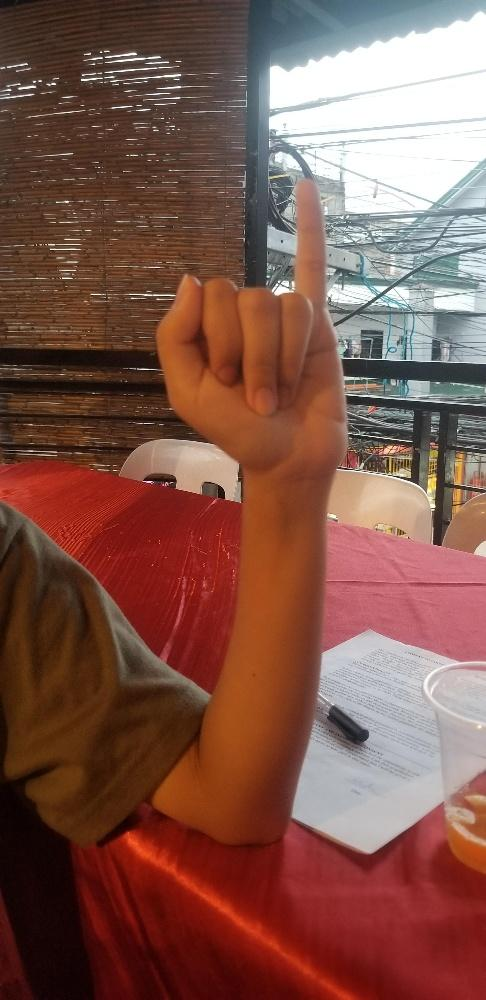i: (152, 176, 343, 471)
